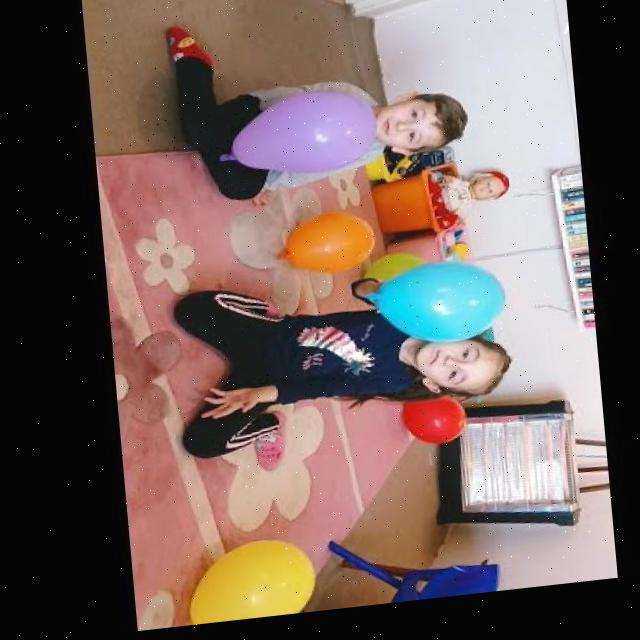balloon: (224, 95, 378, 187), (364, 267, 504, 360), (179, 540, 304, 628), (273, 215, 373, 287), (387, 403, 460, 457), (352, 260, 423, 298)
